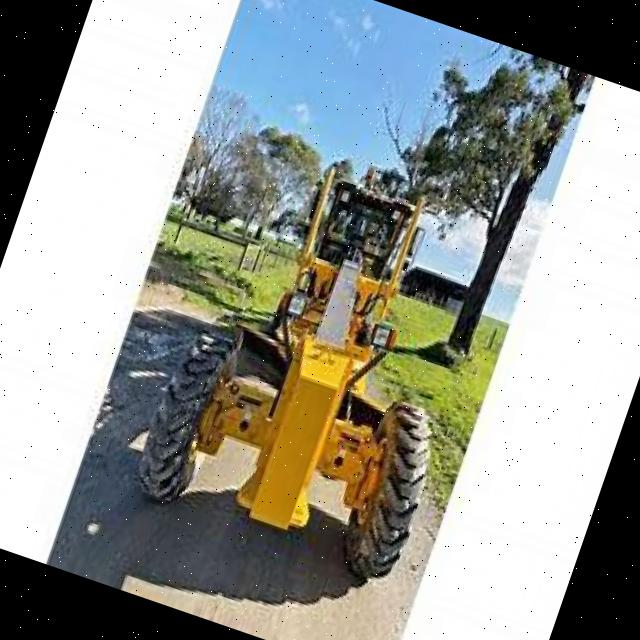Grader: (120, 119, 526, 603)
